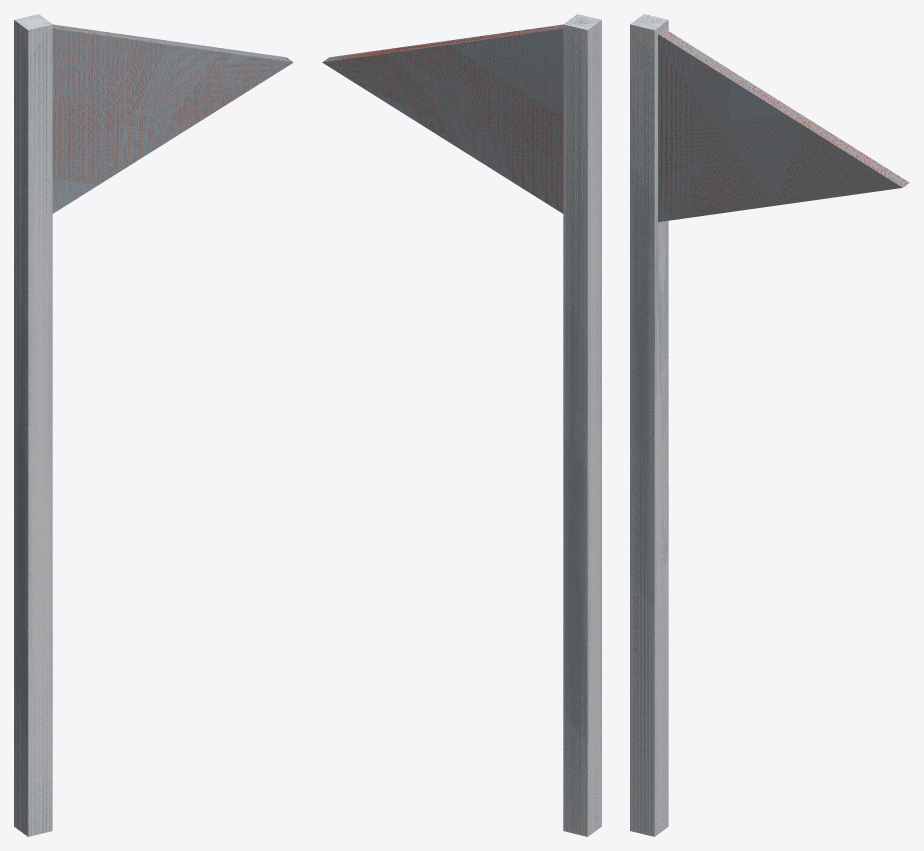
The model's file is Flag_red_01.obj.
The picture shows the model from 3 angles, left to right: view 1: azimuth 30°, elevation 25°; view 2: azimuth 150°, elevation 25°; view 3: azimuth 330°, elevation 25°; orthographic projection.
Visible parts, largest first — view 1: Mesh1 Flag_red Model; view 2: Mesh1 Flag_red Model; view 3: Mesh1 Flag_red Model.
Boxes of the visible parts, left/top/right/bottom form: Mesh1 Flag_red Model: left=14, top=14, right=293, bottom=836; Mesh1 Flag_red Model: left=322, top=14, right=601, bottom=836; Mesh1 Flag_red Model: left=630, top=14, right=909, bottom=836.
Bounding box in the file's own units: 2.2 × 6.3 × 0.2.
